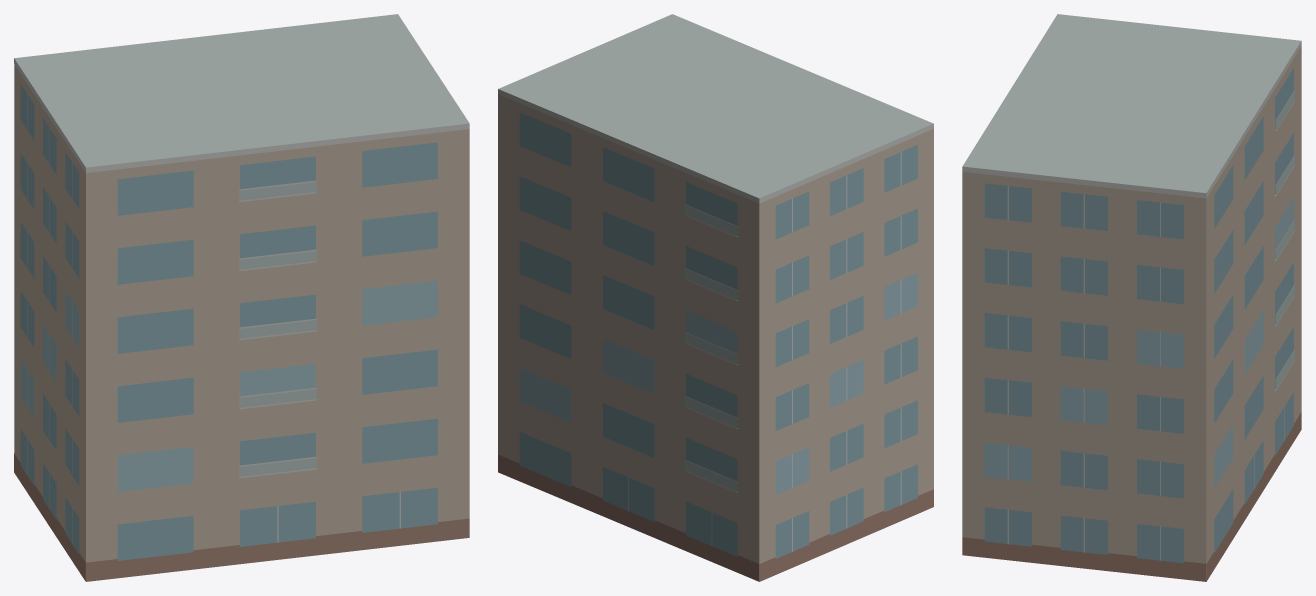
File: survey-upis-33039171.glb
3 renders of one model, left to right at view 1: azimuth 30°, elevation 25°; view 2: azimuth 150°, elevation 25°; view 3: azimuth 270°, elevation 25°, orthographic. The views are drawn at different scales.
Visible parts, largest first — view 1: survey-upis-33039171.tmp; view 2: survey-upis-33039171.tmp; view 3: survey-upis-33039171.tmp.
Part boxes in pixels (left/top/right/bottom): survey-upis-33039171.tmp: left=14, top=14, right=469, bottom=581; survey-upis-33039171.tmp: left=498, top=14, right=933, bottom=581; survey-upis-33039171.tmp: left=962, top=14, right=1301, bottom=581.
Bounding box in the file's own units: 18.11 × 18.3 × 14.49.
